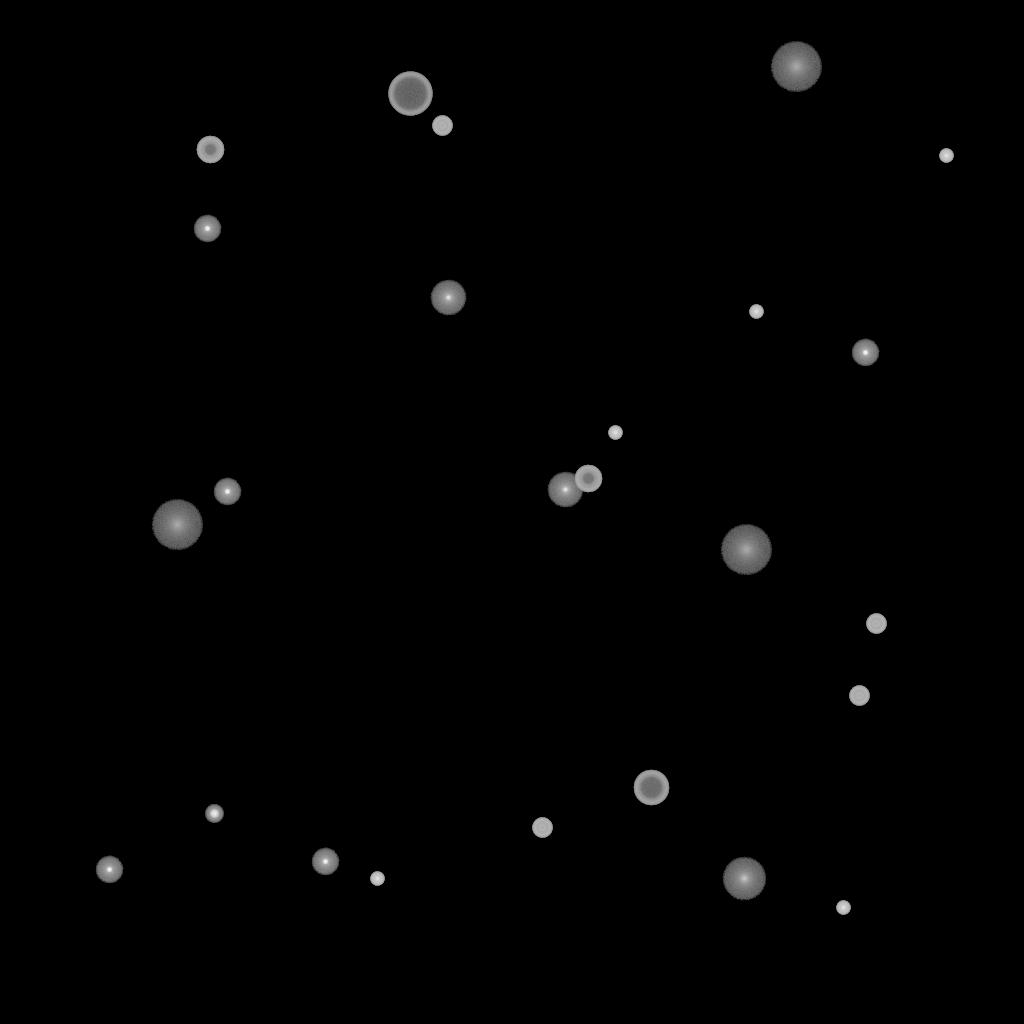depth:-10: (851, 339, 879, 367), (213, 478, 241, 506), (311, 848, 339, 876), (193, 215, 221, 243), (95, 856, 123, 884)
depth:-20: (205, 805, 223, 823)
depth:-30: (836, 901, 850, 915), (749, 305, 763, 319), (608, 426, 622, 440), (939, 149, 953, 163), (370, 872, 384, 886)
depth:-40: (866, 614, 886, 634), (432, 116, 452, 136), (532, 818, 552, 838), (849, 686, 869, 706)
depth:-50: (196, 136, 224, 164), (574, 465, 602, 493)
depth:-60: (633, 770, 669, 806)
depth:-70: (388, 72, 432, 116)
depth:0: (547, 472, 583, 508), (430, 280, 466, 316)
depth:10: (722, 857, 766, 901)
depth:20: (720, 525, 772, 575), (151, 500, 203, 550), (770, 42, 822, 92)
